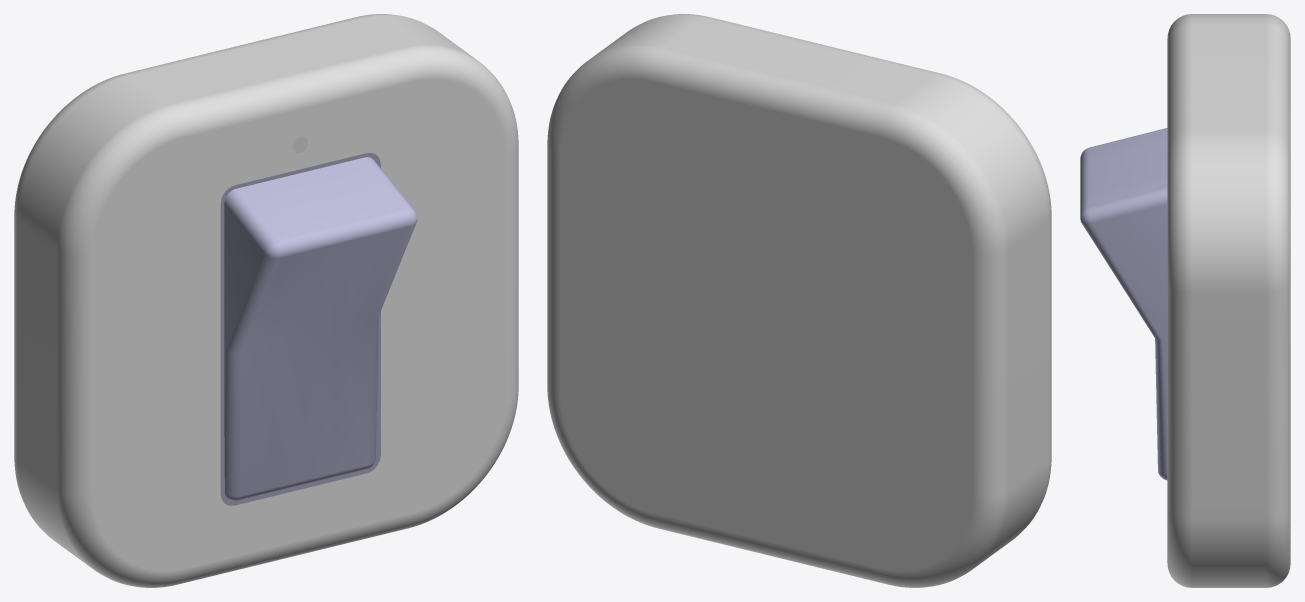
File: switch-on1.glb
The picture shows the model from 3 angles, left to right: view 1: azimuth 30°, elevation 25°; view 2: azimuth 150°, elevation 25°; view 3: azimuth 270°, elevation 25°; orthographic projection. The views are drawn at different scales.
Visible parts, largest first — view 1: Rectangle (×2), Cube; view 2: Rectangle; view 3: Rectangle, Cube.
Boxes of the visible parts, x1,y1,x2,y2 form: Rectangle (×2): (14,14,518,587); Cube: (224,157,417,501); Rectangle: (547,14,1051,587); Rectangle: (1167,14,1290,587); Cube: (1080,128,1167,480).
Bounding box in the file's own units: 0.5299 × 0.5299 × 0.2262.
